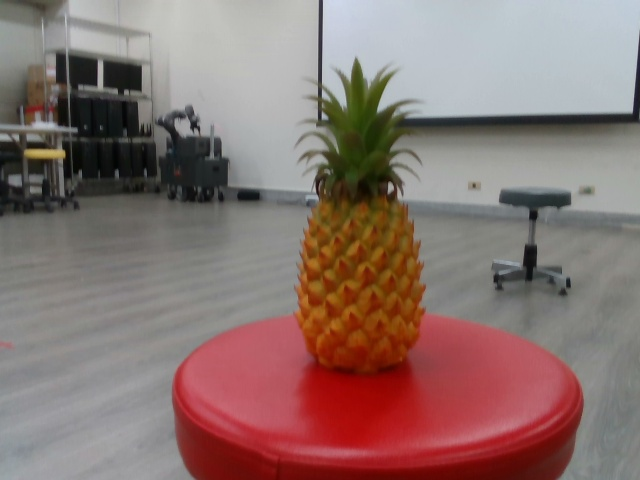pineapple: (292, 52, 428, 382)
